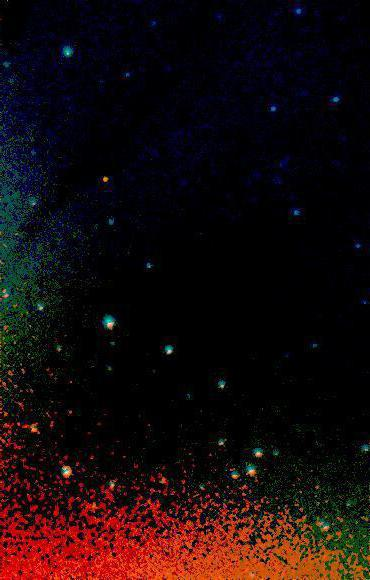star: (91, 165, 121, 195)
